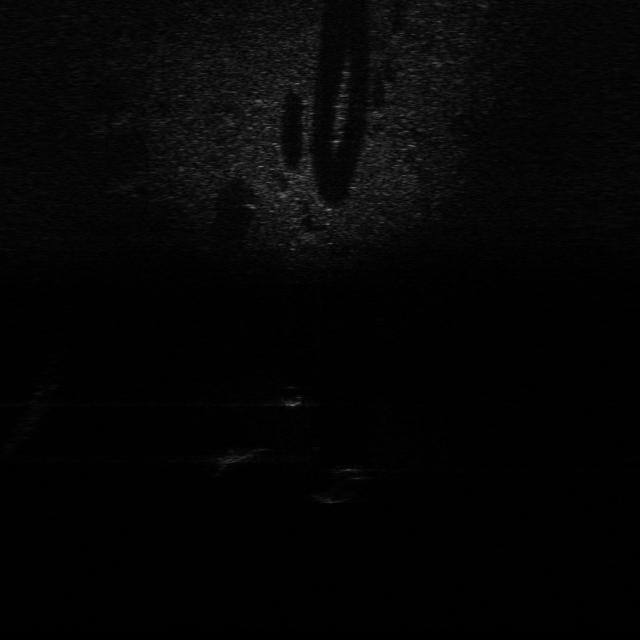ball: (269, 380, 307, 410)
square cage: (210, 442, 278, 470)
tyre: (312, 452, 377, 504)
